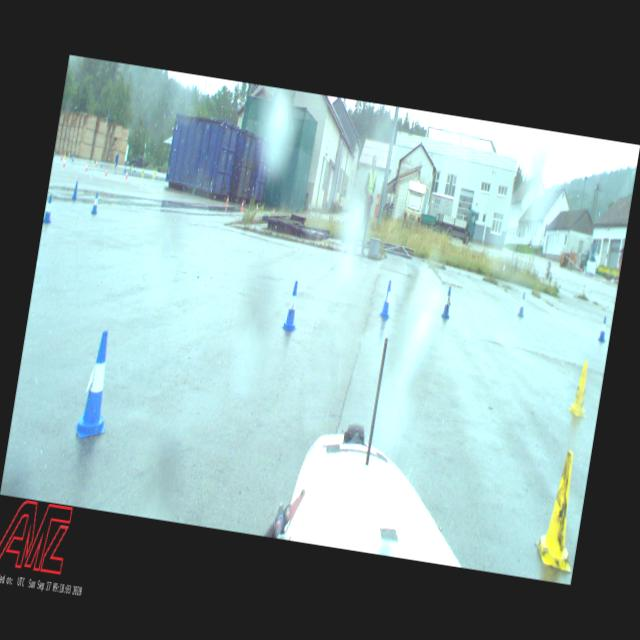blue_cone: (73, 329, 121, 441), (282, 281, 304, 331), (378, 279, 396, 319), (441, 286, 454, 319), (43, 194, 55, 223), (598, 317, 608, 341), (517, 293, 527, 317), (91, 192, 100, 214), (72, 180, 79, 200)
orange_cone: (85, 161, 89, 172), (60, 152, 64, 160), (241, 200, 244, 210), (125, 170, 128, 180), (256, 202, 259, 212), (226, 196, 229, 205), (95, 159, 98, 168), (63, 158, 66, 166), (105, 168, 108, 176), (272, 207, 275, 215)
yellow_cone: (532, 448, 590, 572), (568, 358, 594, 417), (153, 171, 156, 180), (142, 168, 144, 176)
